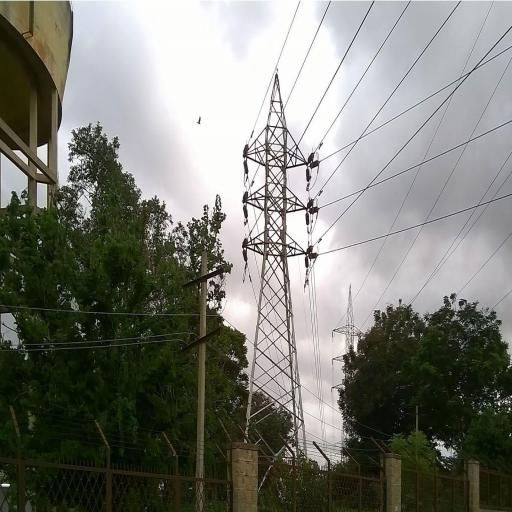ss_3: (241, 68, 319, 465), (331, 280, 372, 464)
